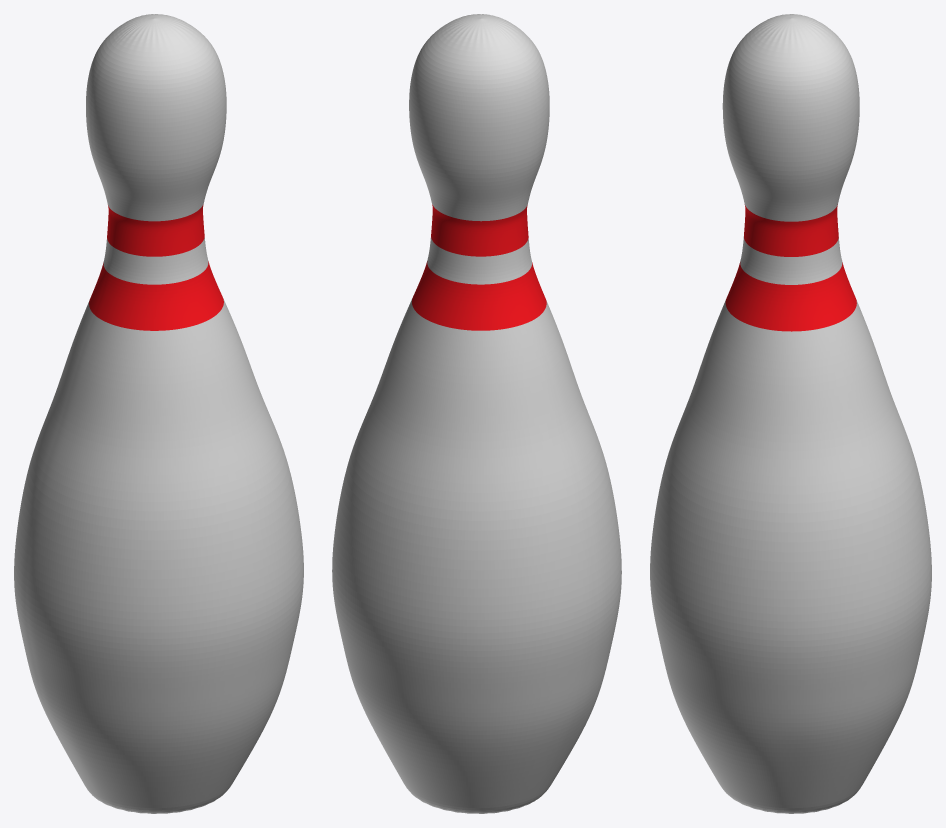
The model's file is pin.fbx.
The picture shows the model from 3 angles, left to right: view 1: azimuth 30°, elevation 25°; view 2: azimuth 150°, elevation 25°; view 3: azimuth 270°, elevation 25°; orthographic projection.
Visible parts, largest first — view 1: Cylinder; view 2: Cylinder; view 3: Cylinder.
Boxes of the visible parts, x1,y1,x2,y2 form: Cylinder: (14, 14, 303, 813); Cylinder: (332, 14, 621, 813); Cylinder: (650, 14, 931, 813).
Bounding box in the file's own units: 117 × 341 × 113.
